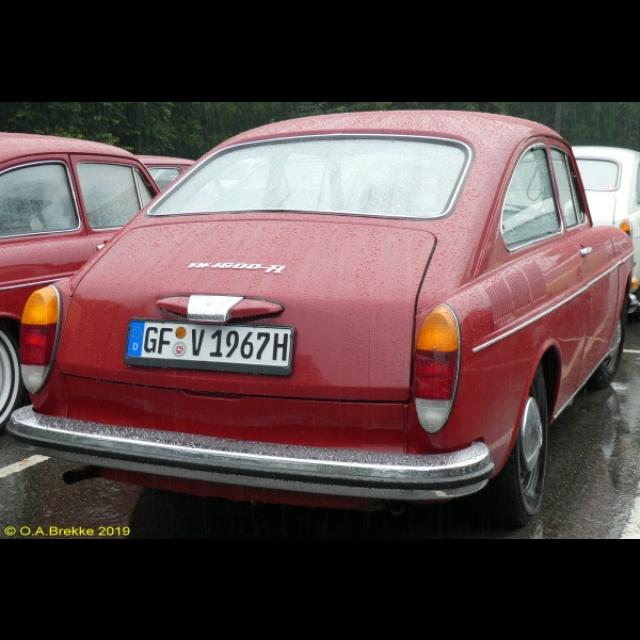d_license_plate: (126, 316, 290, 362)
